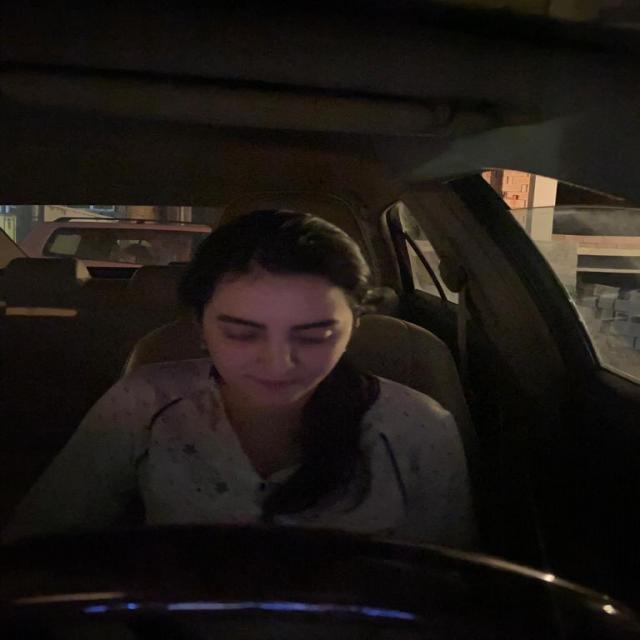drowsy: (184, 209, 368, 412)
